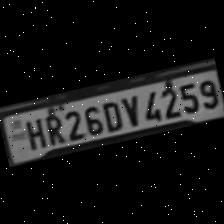2: (58, 106, 86, 142), (155, 82, 181, 120)
4: (136, 86, 164, 124)
5: (174, 78, 201, 116)
6: (79, 101, 105, 136)
9: (194, 73, 222, 111)
D: (96, 96, 125, 134)
H: (20, 113, 47, 149)
R: (38, 109, 66, 145)
V: (116, 91, 144, 129)
